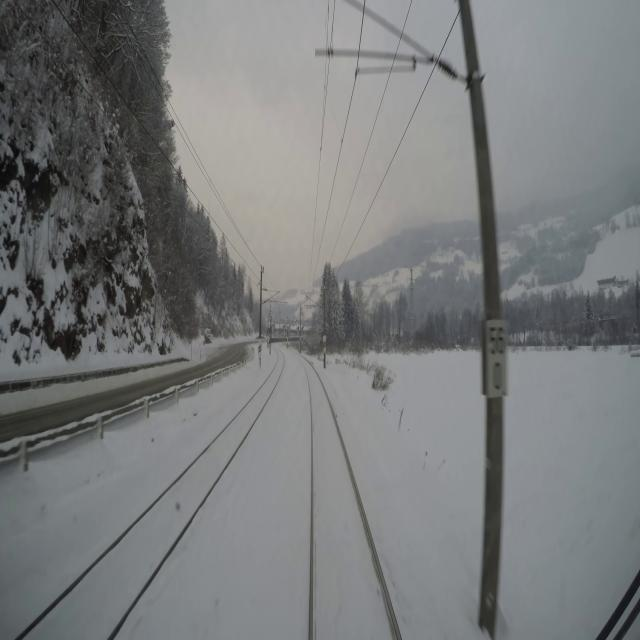rail-track: (22, 351, 282, 639), (303, 360, 396, 639)
